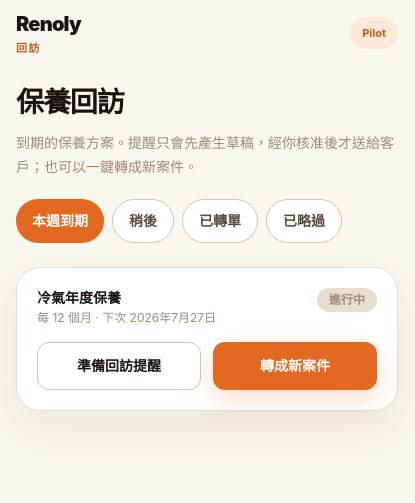
Test: FollowUpsView › surfaces an error when preparing the reminder fails
The width and height of the screenshot is (415, 503).
Expected: the text "冷氣年度保養" is shown, [37,288,121,306]
Click the button "準備回訪提醒": point(119, 366) [37,342,201,390]
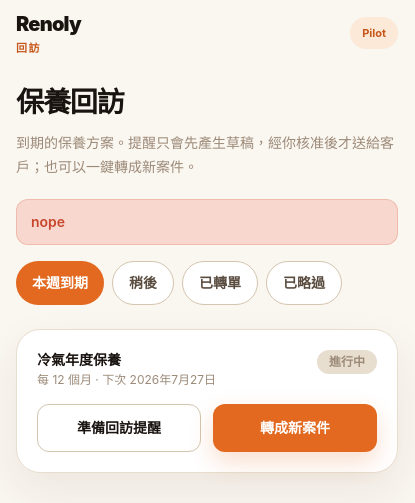
Expected: the text "nope" is shown, [16,198,398,244]
